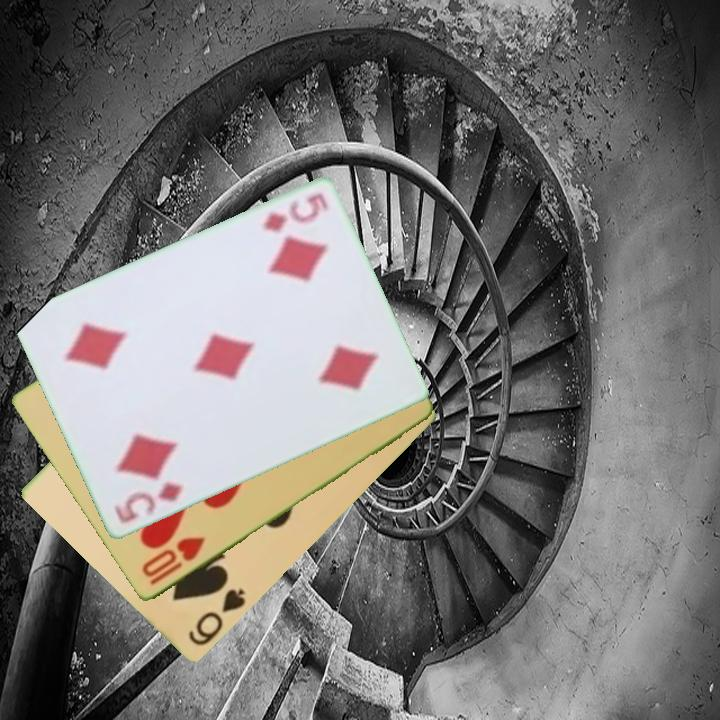10h: (138, 533, 208, 589)
5d: (110, 479, 186, 527), (259, 190, 331, 236)
6s: (184, 586, 249, 649)
